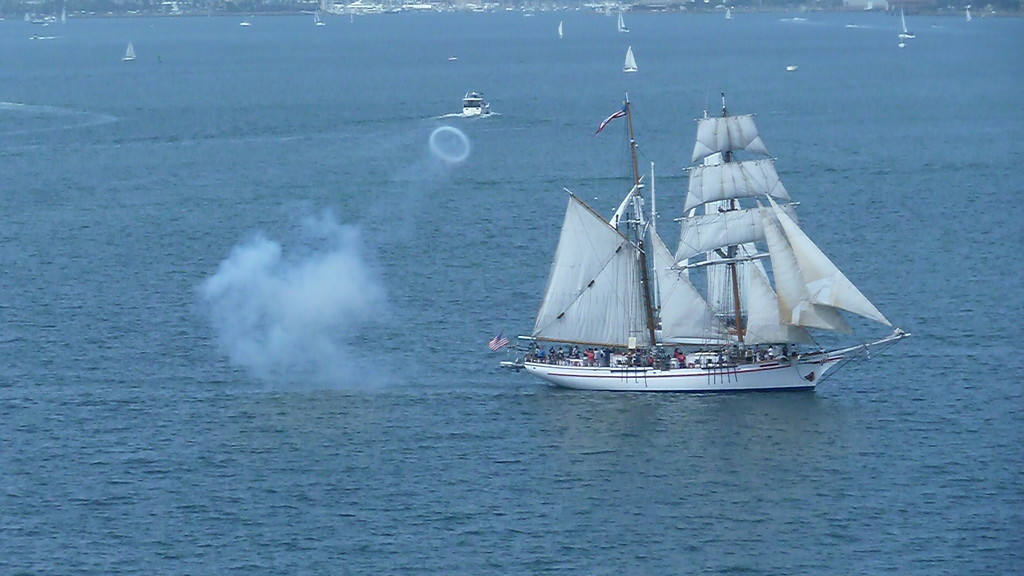boat: (481, 73, 927, 416), (431, 81, 510, 130), (615, 40, 653, 79), (115, 37, 144, 71)
